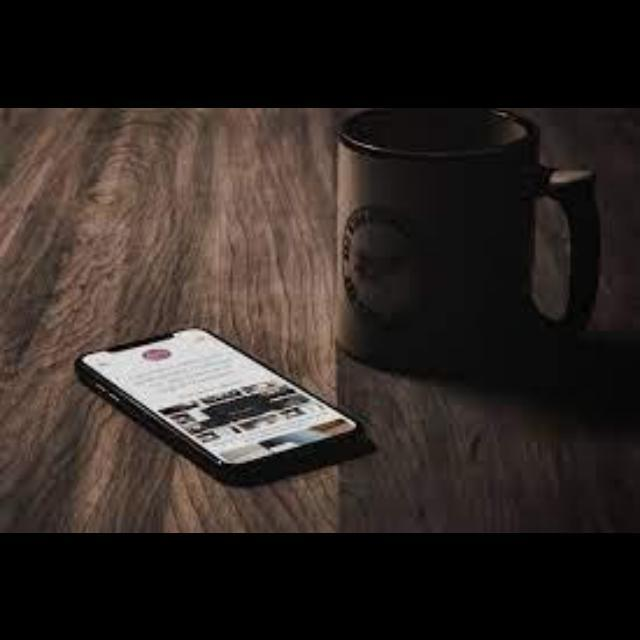PhoneUse: (68, 331, 370, 489)
